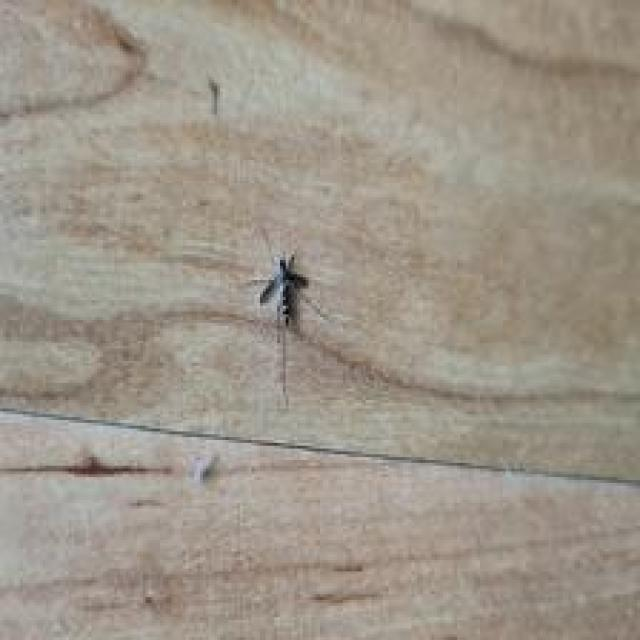Aedes albopictus: (246, 227, 326, 410)
